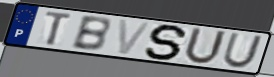B: (69, 15, 113, 53)
S: (143, 23, 191, 61)
T: (44, 10, 75, 46)
U: (181, 26, 229, 66), (221, 32, 266, 70)
V: (117, 18, 154, 57)
